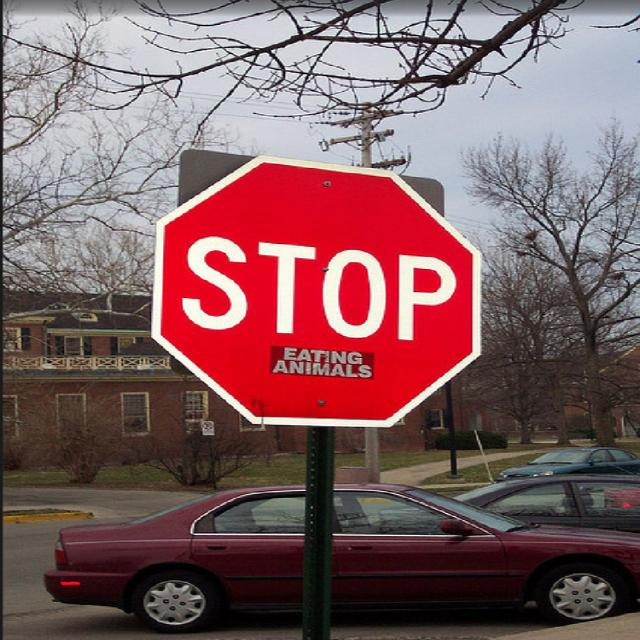STOP: (141, 154, 482, 432)
